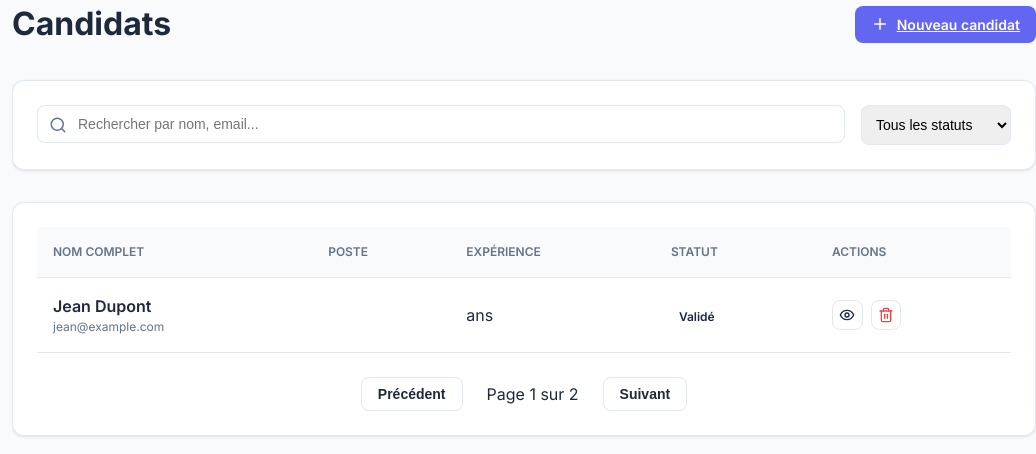
CandidateListPage › handles pagination
Expected: the text "Jean Dupont" is shown, [53,296,151,316]
What coordinates should you click on to do the following:
click the button "Suivant"
I would click on:
 (645, 394)
Its box is [603,377,687,411].
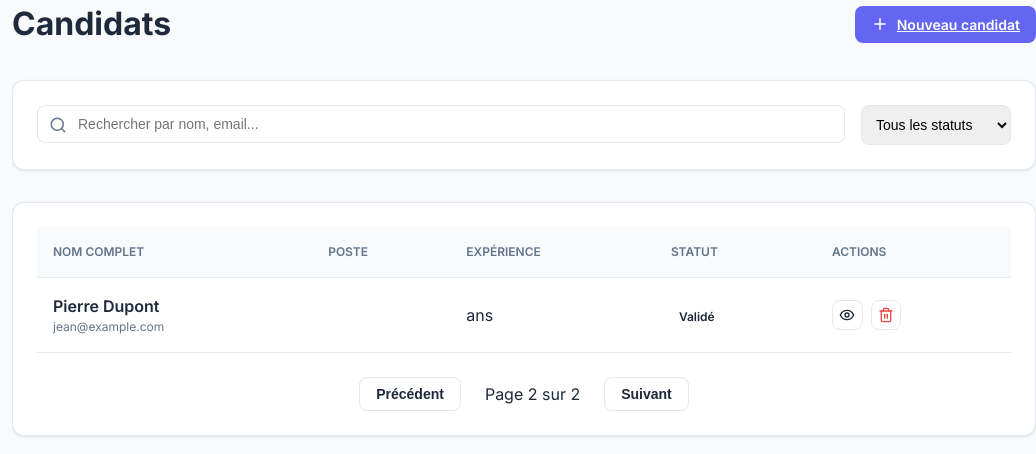
Expected: the text "Pierre Dupont" is shown, [53,296,160,316]
Expected: the text "Page 2 sur 2" is shown, [485,384,580,404]
What coordinates should you click on to do the following:
click the button "Précédent"
I would click on:
 (410, 394)
Its box is [359,377,461,411].
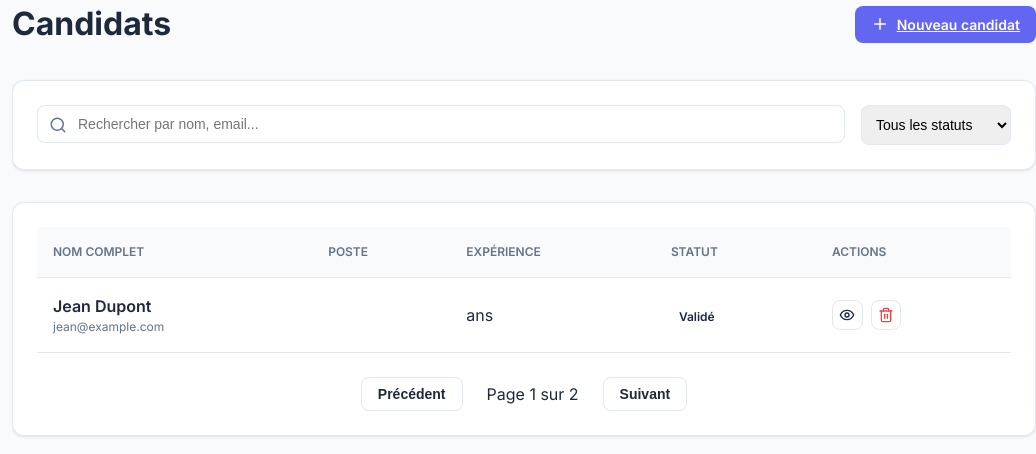
Expected: the text "Jean Dupont" is shown, [53,296,151,316]
Expected: the text "Page 1 sur 2" is shown, [486,384,579,404]
